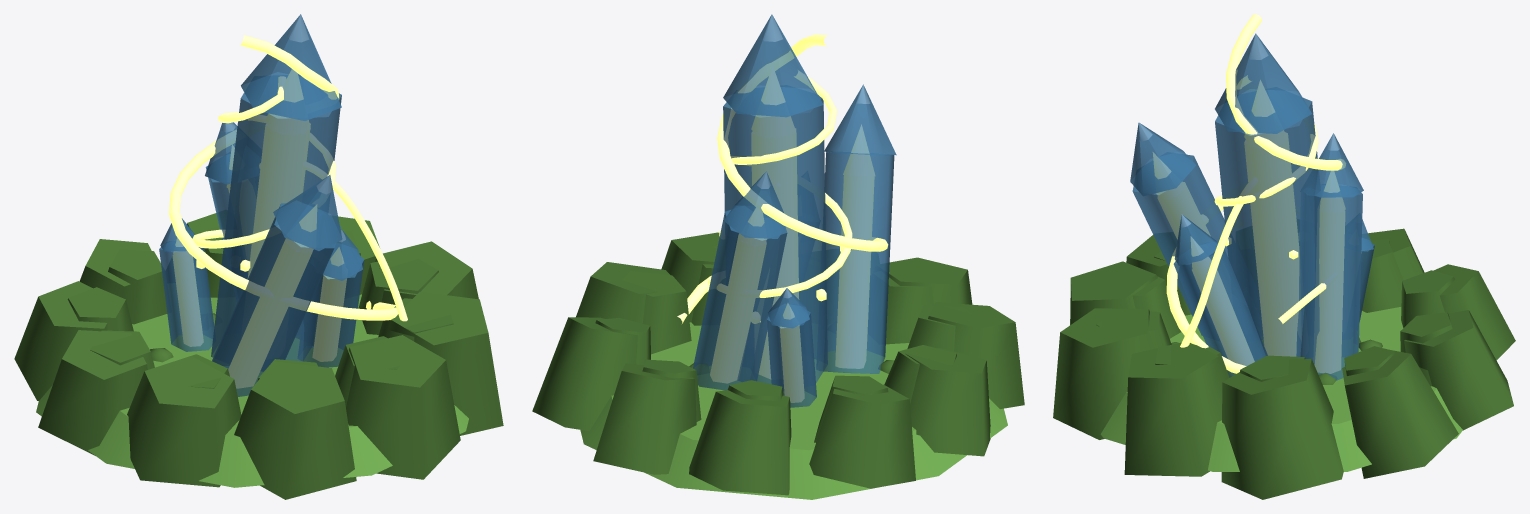
Rendered from node-storm-amber.glb.
3 renders of one model, left to right at view 1: azimuth 30°, elevation 25°; view 2: azimuth 150°, elevation 25°; view 3: azimuth 270°, elevation 25°, orthographic. The views are drawn at different scales.
Parts seen in each view (by area): view 1: Mesh_CrystalMain_OuterShaft, Mesh_RockCrust_3, Mesh_RockCrust_2, Mesh_CrystalLeft_OuterShaft, Mesh_RockCrust_4, Mesh_BaseCenter, Mesh_RockCrust_5, Mesh_RockCrust_1, Mesh_ChargeRibbon1, Mesh_CrystalMain_OuterTip, Mesh_RockCrust_6, Mesh_CrystalBack_OuterShaft (+22 smaller); view 2: Mesh_CrystalMain_OuterShaft, Mesh_CrystalLeft_OuterShaft, Mesh_BaseCenter, Mesh_CrystalRight_OuterShaft, Mesh_RockCrust_7, Mesh_RockCrust_6, Mesh_RockCrust_8, Mesh_RockCrust_9, Mesh_RockCrust_5, Mesh_CrystalMain_OuterTip, Mesh_CrystalLeft_InnerShaft, Mesh_RockCrust_4 (+22 smaller); view 3: Mesh_CrystalMain_OuterShaft, Mesh_RockCrust_0, Mesh_RockCrust_1, Mesh_CrystalRight_OuterShaft, Mesh_RockCrust_9, Mesh_RockCrust_2, Mesh_CrystalMain_InnerShaft, Mesh_RockCrust_8, Mesh_CrystalLeft_OuterShaft, Mesh_BaseCenter, Mesh_CrystalFront_OuterShaft, Mesh_CrystalMain_OuterTip (+23 smaller).
Boxes of the visible parts, <box> form: Mesh_CrystalMain_OuterShaft: <box>211,75,341,361</box>; Mesh_RockCrust_3: <box>234,361,356,499</box>; Mesh_RockCrust_2: <box>346,335,460,479</box>; Mesh_CrystalLeft_OuterShaft: <box>212,203,340,396</box>; Mesh_RockCrust_4: <box>127,356,241,487</box>; Mesh_BaseCenter: <box>36,294,468,487</box>; Mesh_RockCrust_5: <box>38,330,147,455</box>; Mesh_RockCrust_1: <box>388,291,503,435</box>; Mesh_ChargeRibbon1: <box>169,35,397,320</box>; Mesh_CrystalMain_OuterTip: <box>241,14,341,120</box>; Mesh_RockCrust_6: <box>14,281,107,400</box>; Mesh_CrystalBack_OuterShaft: <box>159,240,214,351</box>; Mesh_CrystalMain_OuterShaft: <box>723,94,827,384</box>; Mesh_CrystalLeft_OuterShaft: <box>816,152,894,373</box>; Mesh_BaseCenter: <box>580,322,1007,499</box>; Mesh_CrystalRight_OuterShaft: <box>693,206,787,390</box>; Mesh_RockCrust_7: <box>689,390,791,495</box>; Mesh_RockCrust_6: <box>809,384,915,488</box>; Mesh_RockCrust_8: <box>593,363,696,474</box>; Mesh_RockCrust_9: <box>532,317,637,431</box>; Mesh_RockCrust_5: <box>905,348,990,456</box>; Mesh_CrystalMain_OuterTip: <box>723,14,823,117</box>; Mesh_CrystalLeft_InnerShaft: <box>835,175,874,368</box>; Mesh_RockCrust_4: <box>928,302,1024,408</box>; Mesh_CrystalMain_OuterShaft: <box>1215,90,1320,363</box>; Mesh_RockCrust_0: <box>1221,359,1343,499</box>; Mesh_RockCrust_1: <box>1124,342,1227,476</box>; Mesh_CrystalRight_OuterShaft: <box>1296,185,1362,380</box>; Mesh_RockCrust_9: <box>1342,350,1458,478</box>; Mesh_RockCrust_2: <box>1053,308,1154,439</box>; Mesh_CrystalMain_InnerShaft: <box>1244,132,1299,356</box>; Mesh_RockCrust_8: <box>1404,310,1513,430</box>; Mesh_CrystalLeft_OuterShaft: <box>1132,153,1262,339</box>; Mesh_BaseCenter: <box>1100,307,1462,471</box>; Mesh_CrystalFront_OuterShaft: <box>1173,243,1267,377</box>; Mesh_CrystalMain_OuterTip: <box>1215,33,1311,133</box>.
Size of the model in its own units: 0.6153 by 0.5495 by 0.5943.
Materials: 3 (3 with a texture image).
